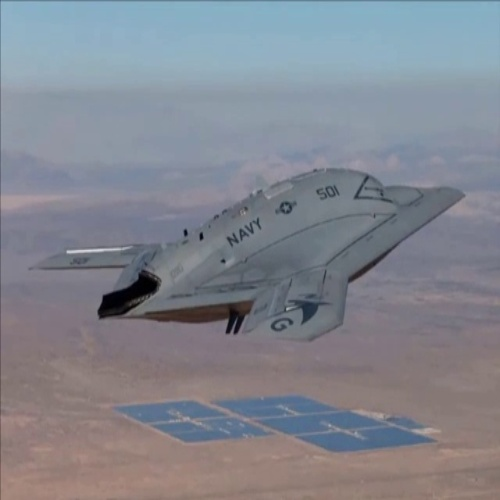uav: (28, 164, 470, 349)
